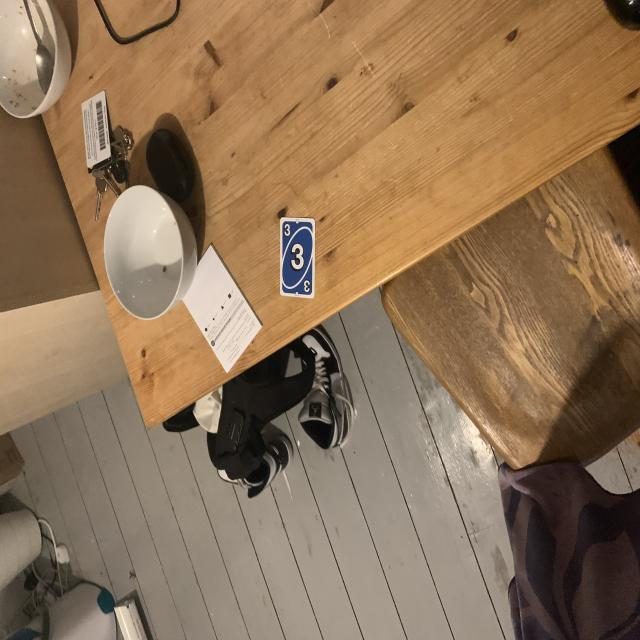lblue-3: (283, 222, 292, 239)
